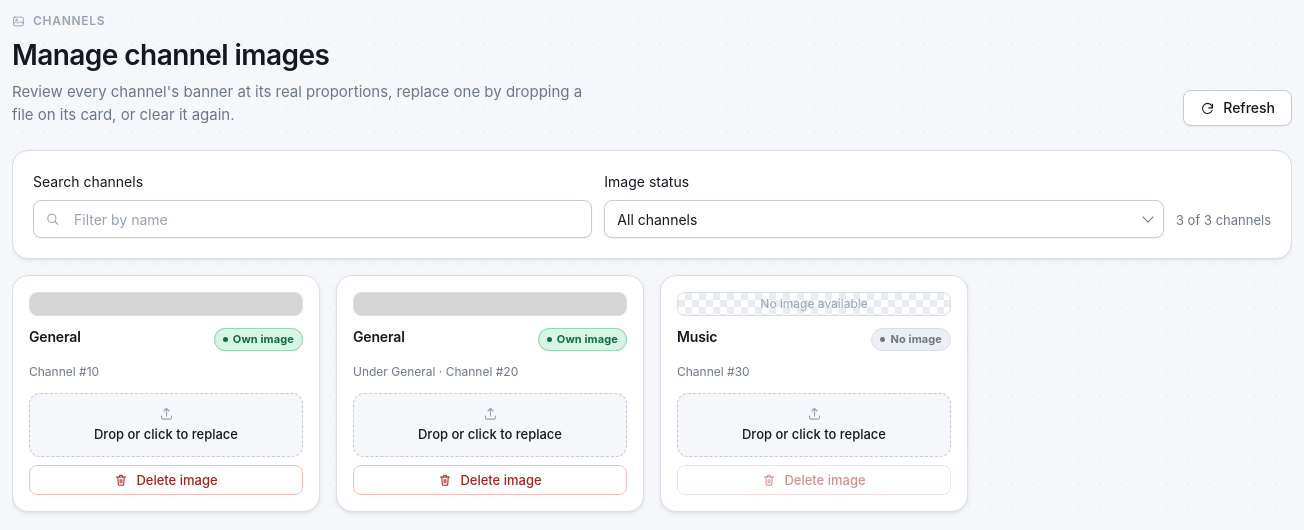
channel image workflows › filters channel names and distinguishes missing images
Expected: the heading "Music" is shown, [677,328,717,346]
Select "Missing image" in the dropdown labelled "Image status": [884, 219] box [604,200,1164,238]
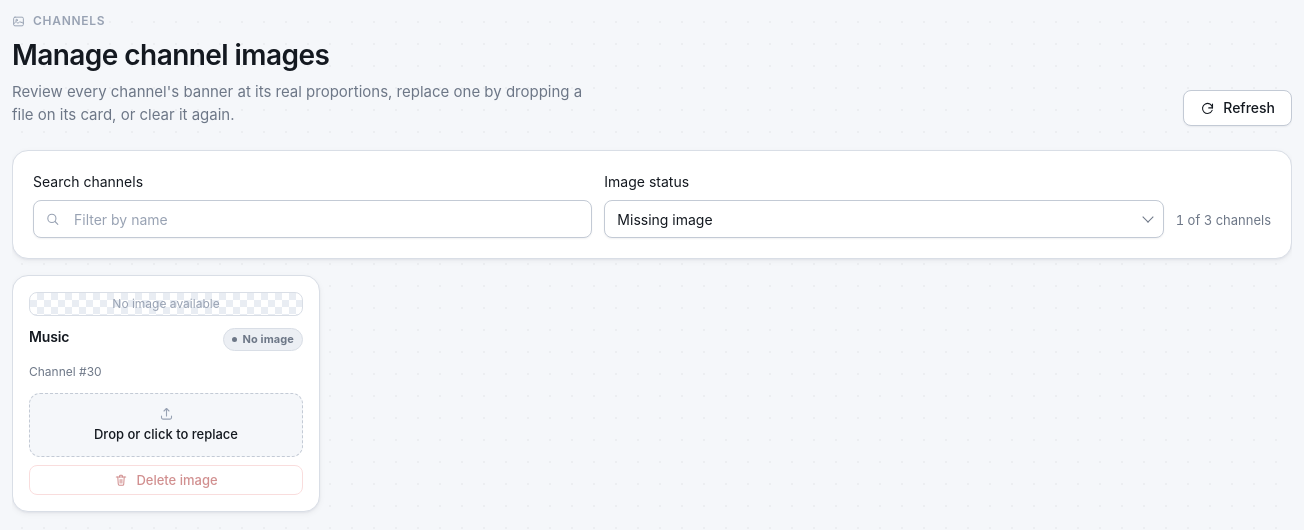
Expected: the heading "Music" is shown, [29,328,69,346]
Now no headings "General" are shown
